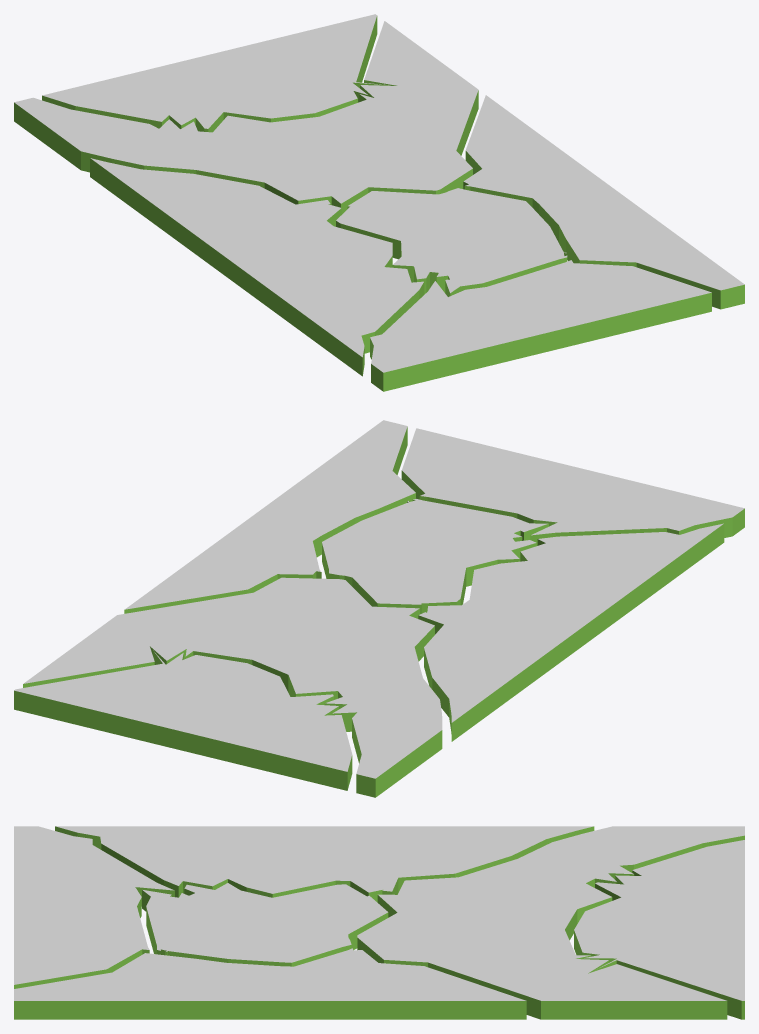
Rendered from TutorialFinal.fbx.
3 renders of one model, top to bottom at view 1: azimuth 30°, elevation 25°; view 2: azimuth 150°, elevation 25°; view 3: azimuth 270°, elevation 25°, orthographic.
Parts seen in each view (by area): view 1: Plane.001, Plane.004, Plane, Plane.003, Plane.002, Plane.005; view 2: Plane.001, Plane.004, Plane.003, Plane, Plane.002, Plane.005; view 3: Plane.001, Plane.002, Plane.004, Plane.003, Plane, Plane.005.
Boxes of the visible parts, bbox=[...] form: Plane.001: bbox=[14, 21, 478, 214]; Plane.004: bbox=[90, 158, 424, 376]; Plane: bbox=[370, 260, 711, 391]; Plane.003: bbox=[42, 14, 389, 132]; Plane.002: bbox=[463, 95, 744, 309]; Plane.005: bbox=[336, 188, 567, 296]; Plane.001: bbox=[23, 577, 442, 797]; Plane.004: bbox=[418, 523, 724, 741]; Plane.003: bbox=[14, 650, 352, 790]; Plane: bbox=[401, 428, 744, 545]; Plane.002: bbox=[124, 420, 415, 613]; Plane.005: bbox=[322, 499, 548, 614]; Plane.001: bbox=[357, 826, 744, 1019]; Plane.002: bbox=[14, 948, 526, 1019]; Plane.004: bbox=[55, 826, 594, 902]; Plane.003: bbox=[574, 840, 744, 1019]; Plane: bbox=[14, 826, 174, 988]; Plane.005: bbox=[142, 883, 388, 966].
Size of the model in its own units: 179 by 9 by 316.
